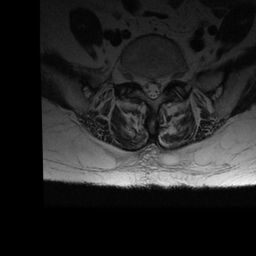CCS_normal: (148, 72, 156, 103)
LFS_normal: (165, 67, 172, 89)
LLS_normal: (157, 71, 164, 100)
RFS_normal: (133, 69, 141, 90)
RLS_normal: (141, 72, 148, 100)
